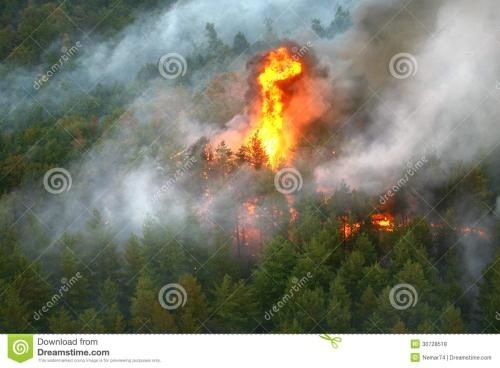fire: (238, 47, 301, 171), (337, 205, 399, 236)
